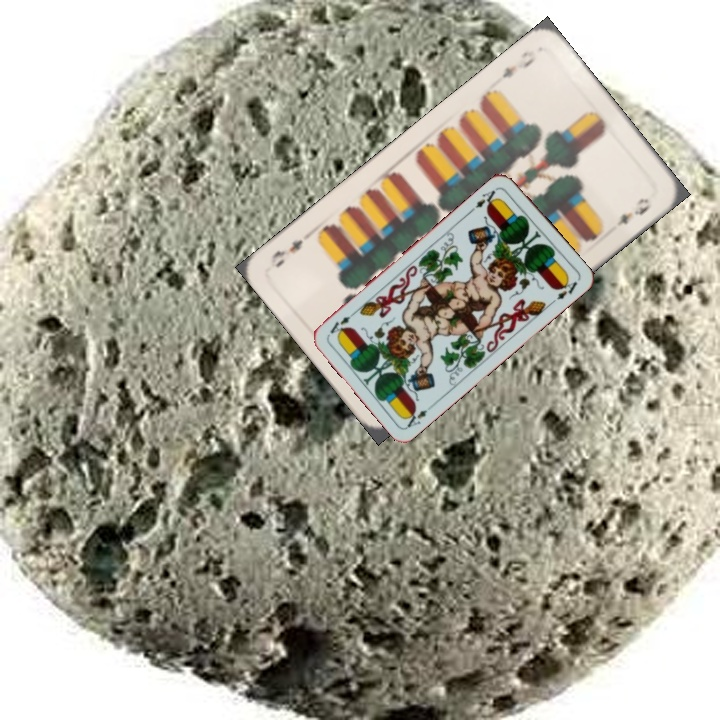E9: (498, 45, 538, 81)
EA: (467, 184, 501, 214), (399, 406, 430, 430)
